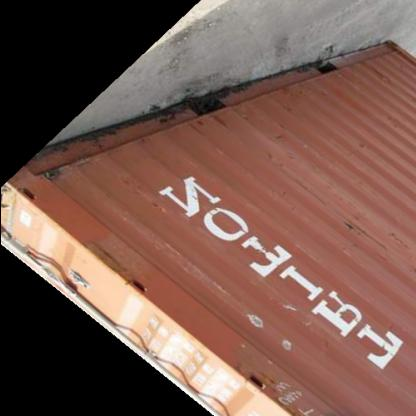Damage: (236, 302, 326, 350), (338, 202, 408, 256), (30, 153, 104, 185), (194, 103, 257, 135), (341, 134, 381, 160)
